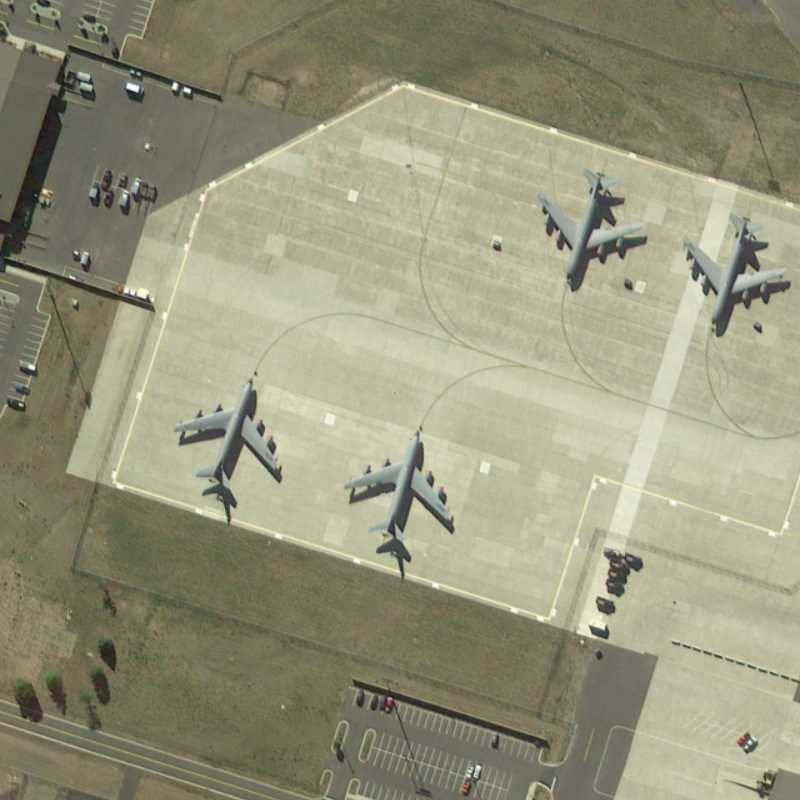A14: (673, 206, 793, 343), (343, 417, 466, 550), (169, 364, 293, 493), (529, 161, 649, 287)
